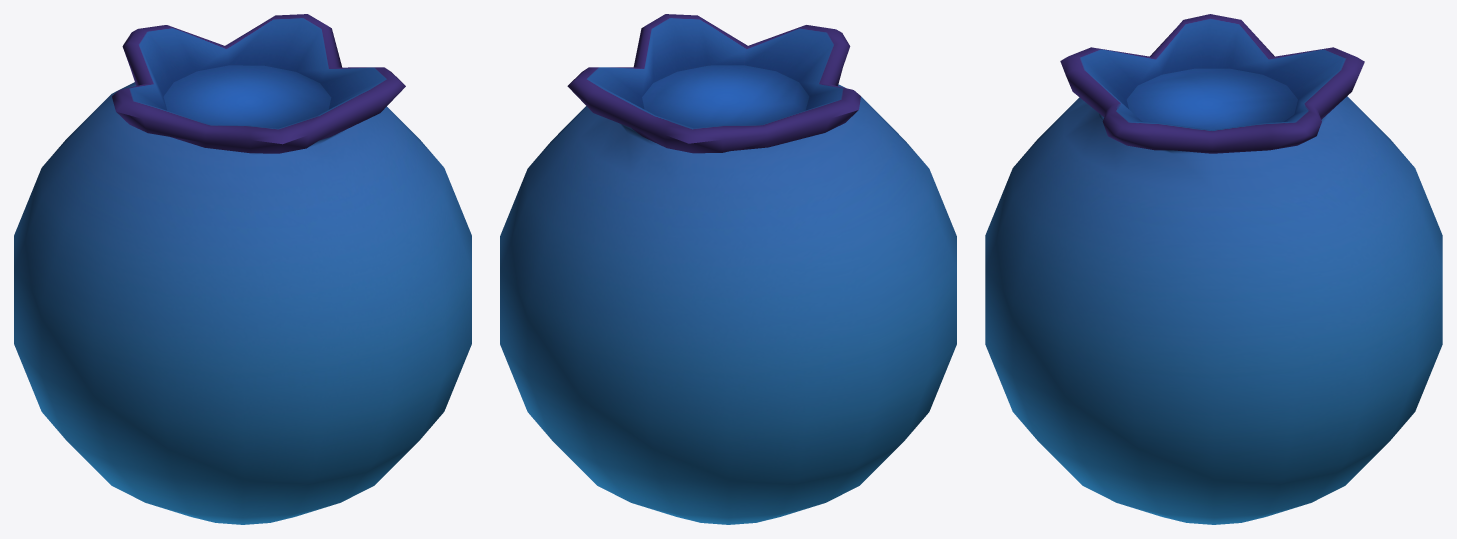
The model's file is blueberry.fbx.
The picture shows the model from 3 angles, left to right: view 1: azimuth 30°, elevation 25°; view 2: azimuth 150°, elevation 25°; view 3: azimuth 270°, elevation 25°; orthographic projection.
Visible parts, largest first — view 1: blueberry; view 2: blueberry; view 3: blueberry.
Boxes of the visible parts, x1,y1,x2,y2 form: blueberry: (14,14,471,524); blueberry: (500,14,956,524); blueberry: (985,14,1442,524).
Bounding box in the file's own units: 107 × 110 × 106.
1 material, 1 textured.
